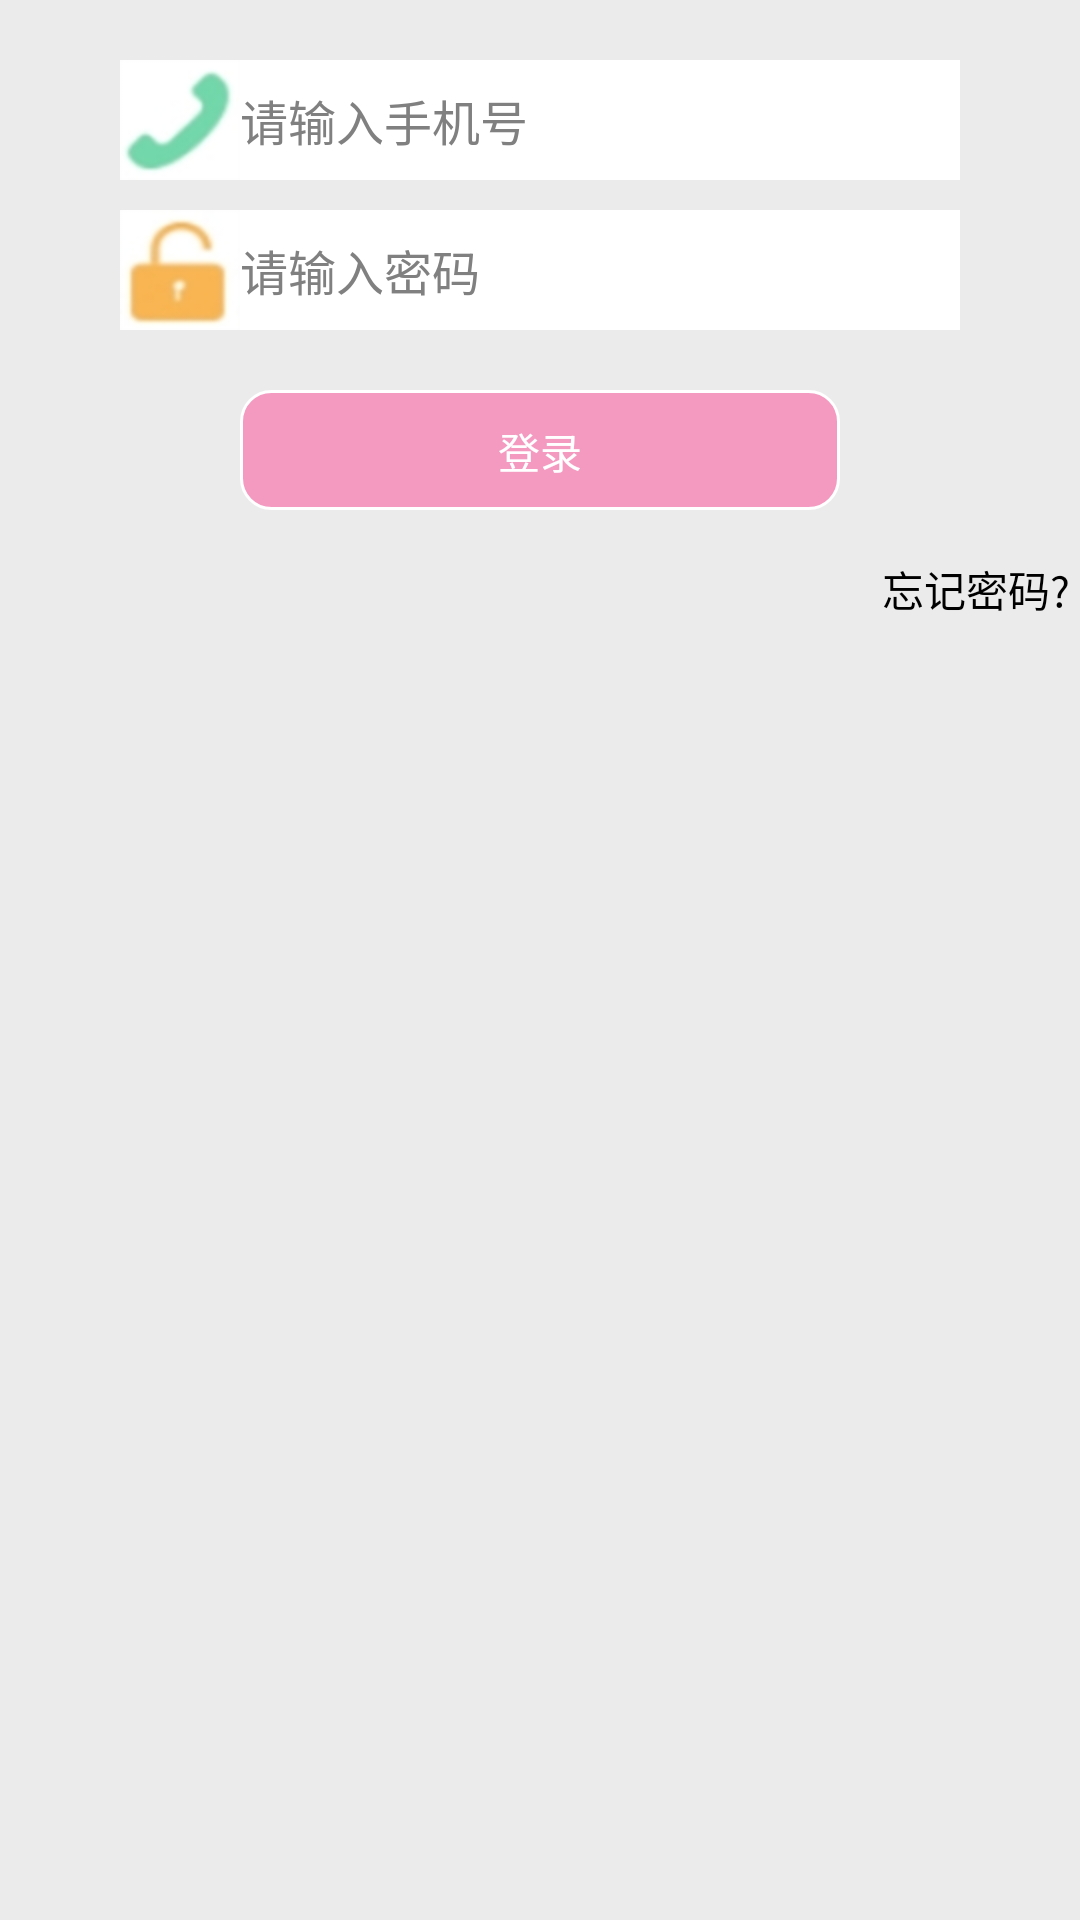

Icon click points for this 1080×1920 phone screenshot, format [x,y]:
password: [177,272]
phone: [180,120]
